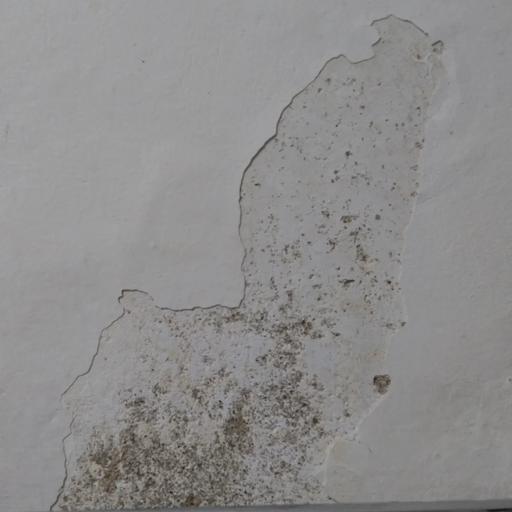peeling: (29, 0, 468, 512)
